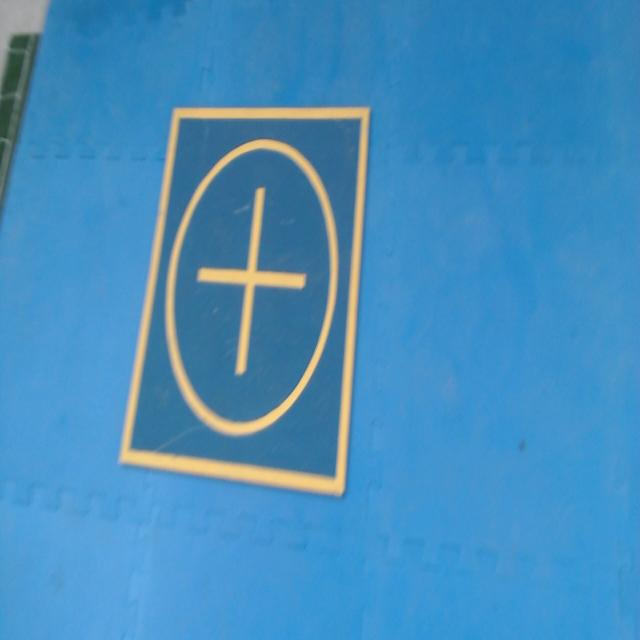base_pouso: (116, 104, 373, 501)
